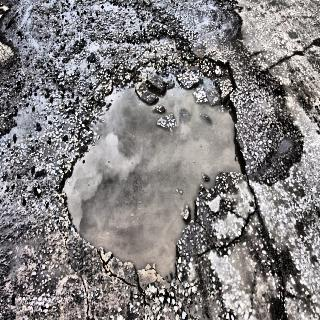pothole: (62, 37, 251, 283)
